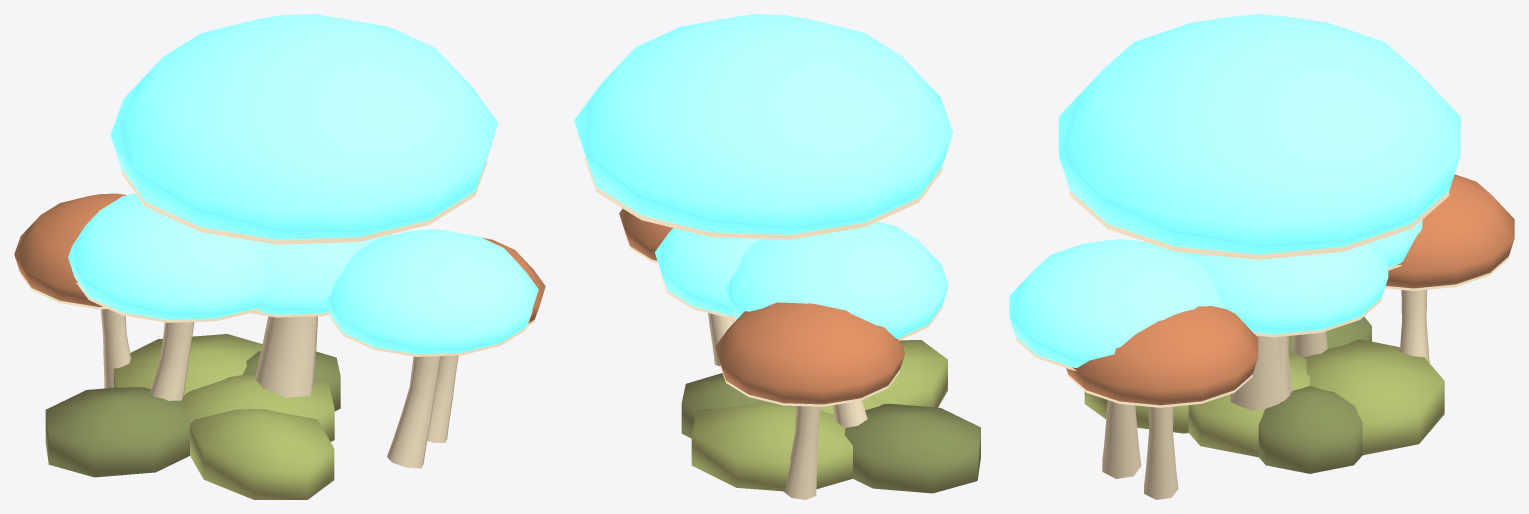
The model's file is prop_tc_nam_phat_sang.55beb4811b.glb.
3 renders of one model, left to right at view 1: azimuth 30°, elevation 25°; view 2: azimuth 150°, elevation 25°; view 3: azimuth 270°, elevation 25°, orthographic. The views are drawn at different scales.
Visible parts, largest first — view 1: prop_tc_nam_phat_sang; view 2: prop_tc_nam_phat_sang; view 3: prop_tc_nam_phat_sang.
Boxes of the visible parts, x1,y1,x2,y2 form: prop_tc_nam_phat_sang: (14,14,545,499); prop_tc_nam_phat_sang: (574,14,980,499); prop_tc_nam_phat_sang: (1009,14,1514,499).
Size of what is drawn, in the model's own units: 0.9692 by 0.884 by 0.9537.
